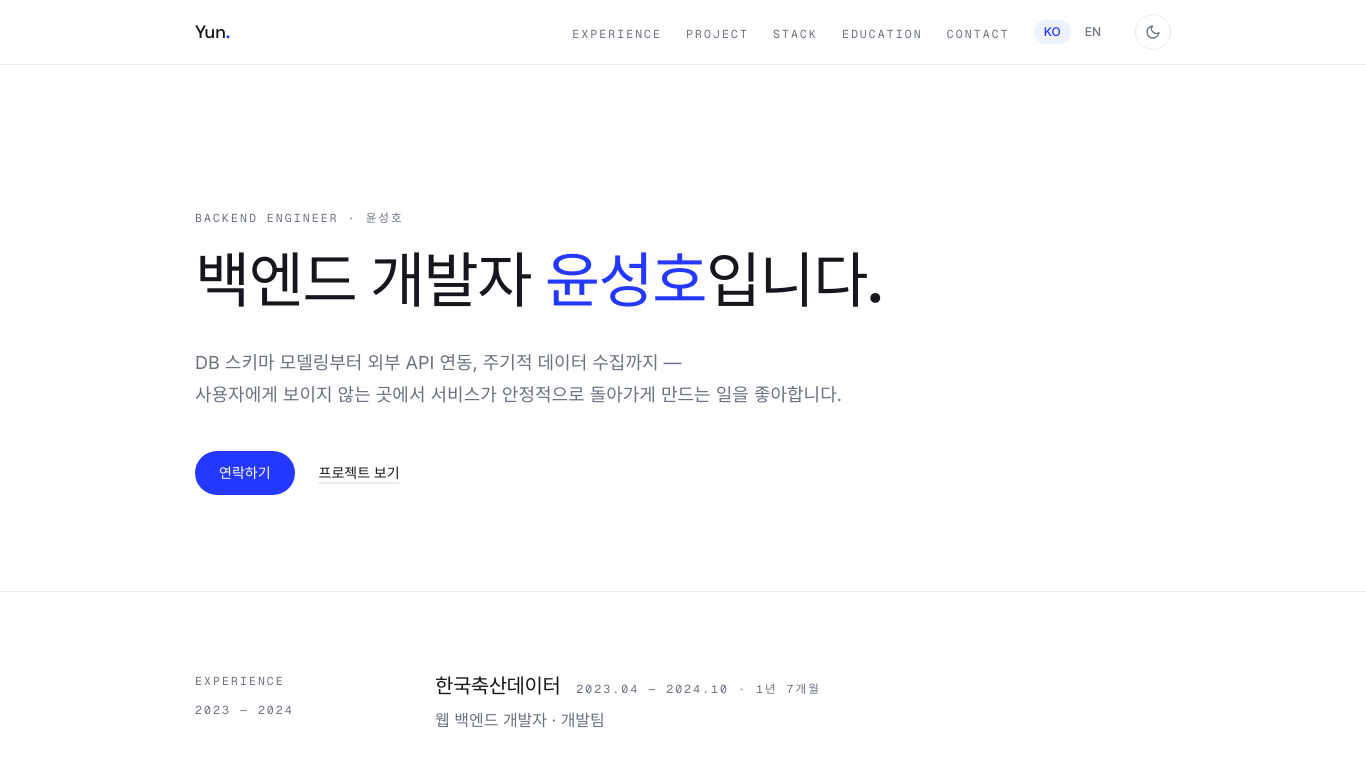
Test case: Home page › switches content to English via the picker
The image size is (1366, 768).
Click the button "EN": (1093, 32) [1075,20,1111,44]
(page scrolled)
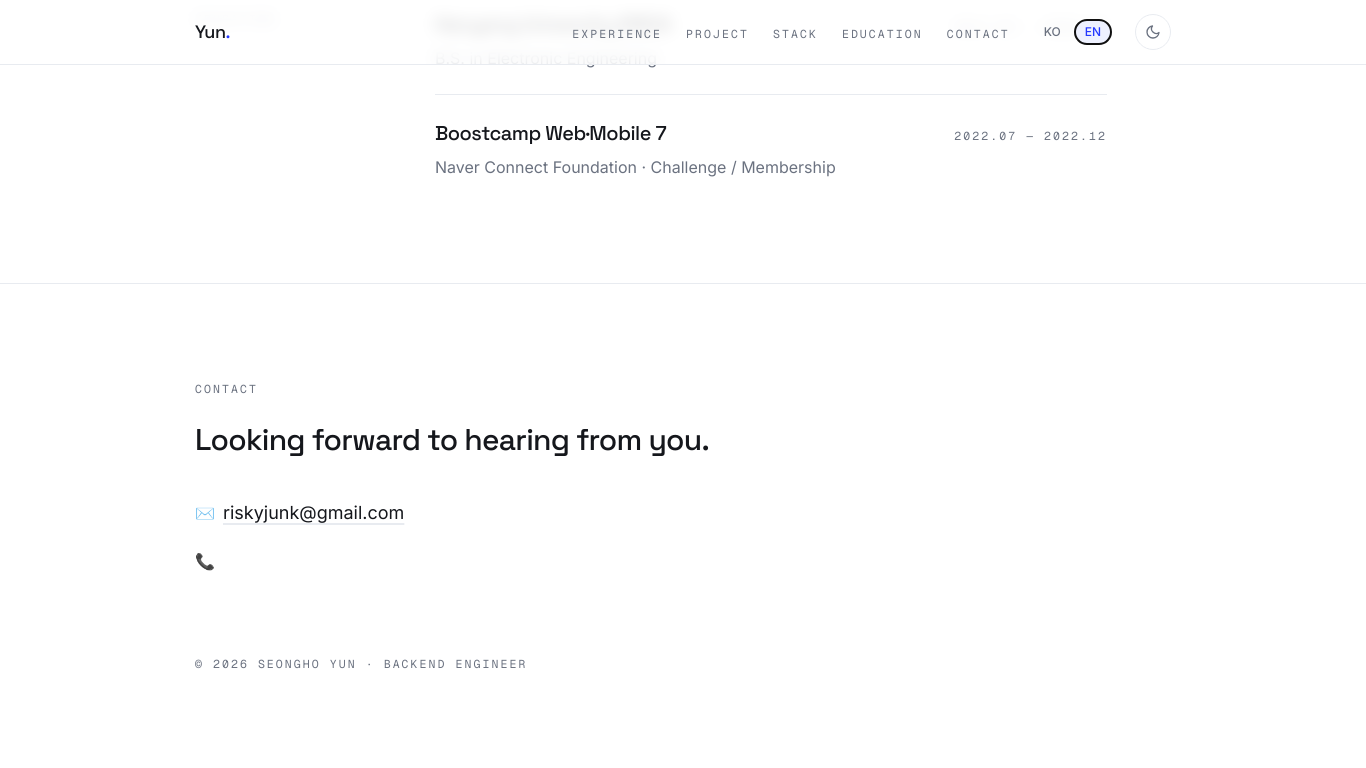
Expected: the heading "Looking forward to hearing from you." is shown, [195,420,709,459]
